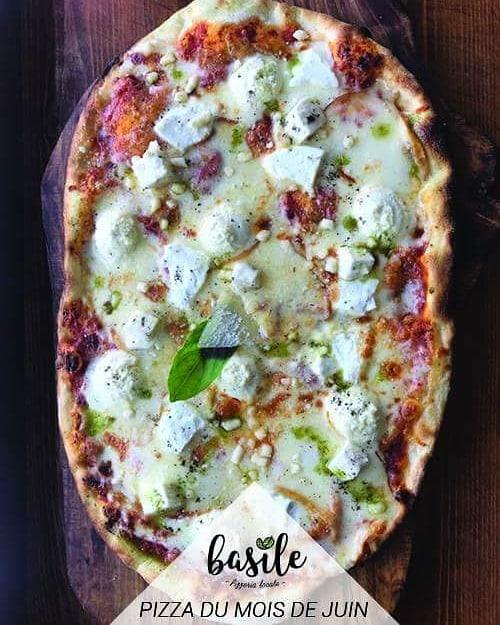Basil: (166, 310, 246, 406)
Cheese: (82, 347, 139, 421), (230, 53, 284, 130), (259, 140, 325, 197), (160, 240, 211, 313), (285, 41, 344, 104), (147, 399, 206, 460), (351, 181, 409, 243), (153, 96, 216, 153), (198, 198, 256, 256), (326, 382, 381, 442), (132, 459, 184, 516), (320, 434, 373, 489), (92, 207, 142, 260), (220, 350, 267, 403), (112, 301, 161, 351), (332, 324, 372, 384), (128, 145, 177, 193), (282, 94, 328, 144), (333, 239, 380, 284), (335, 271, 377, 321)
Pizza: (57, 0, 457, 625)
